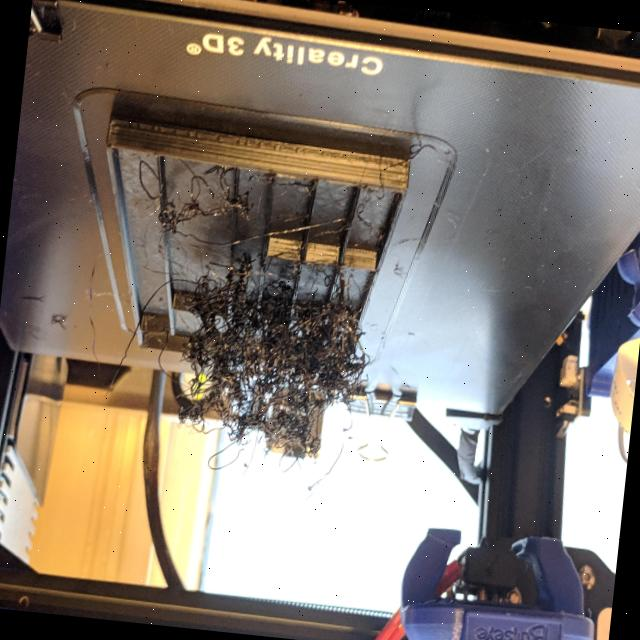spaghetti: (135, 258, 381, 489), (115, 131, 258, 252)
